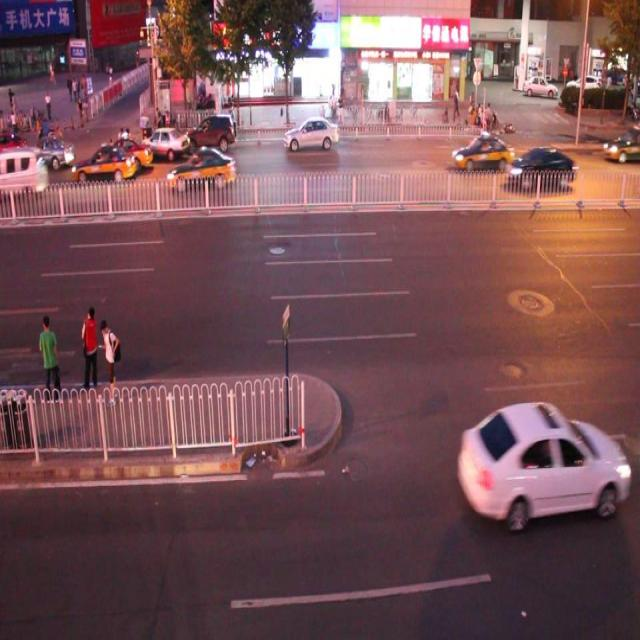car: (460, 396, 621, 526), (509, 143, 573, 188), (166, 148, 235, 189), (451, 130, 512, 174), (72, 144, 136, 183), (185, 114, 236, 152), (284, 115, 338, 150), (23, 137, 75, 172), (101, 135, 153, 170), (141, 126, 191, 161), (602, 124, 640, 166), (1, 128, 28, 160)
truck: (1, 148, 48, 200)
